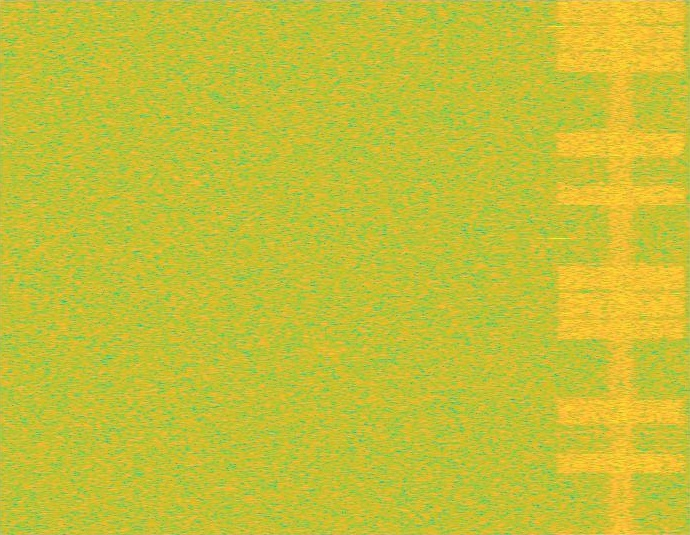DSSS: (605, 0, 637, 534)
LTE: (552, 0, 689, 534)
Radar: (553, 0, 567, 534)
